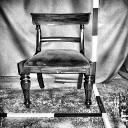chair_success: (8, 10, 100, 111)
